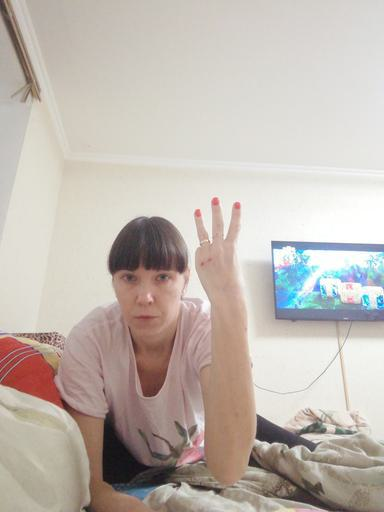three: (192, 195, 247, 306)
